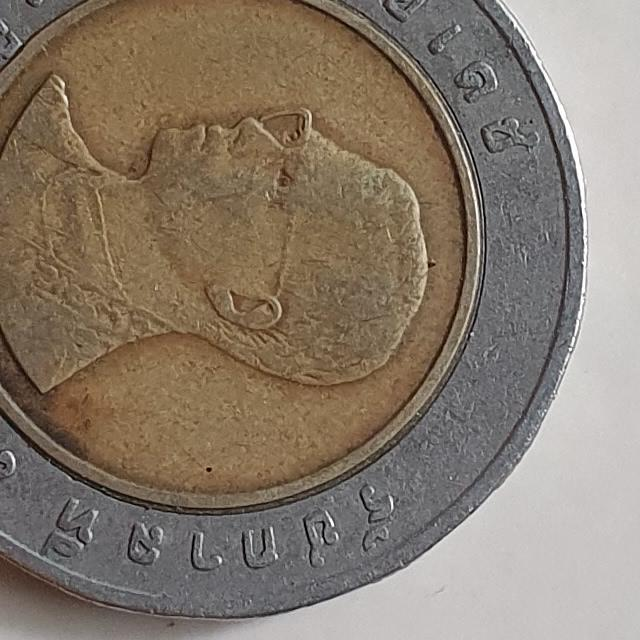10 Bath: (1, 1, 601, 626)
